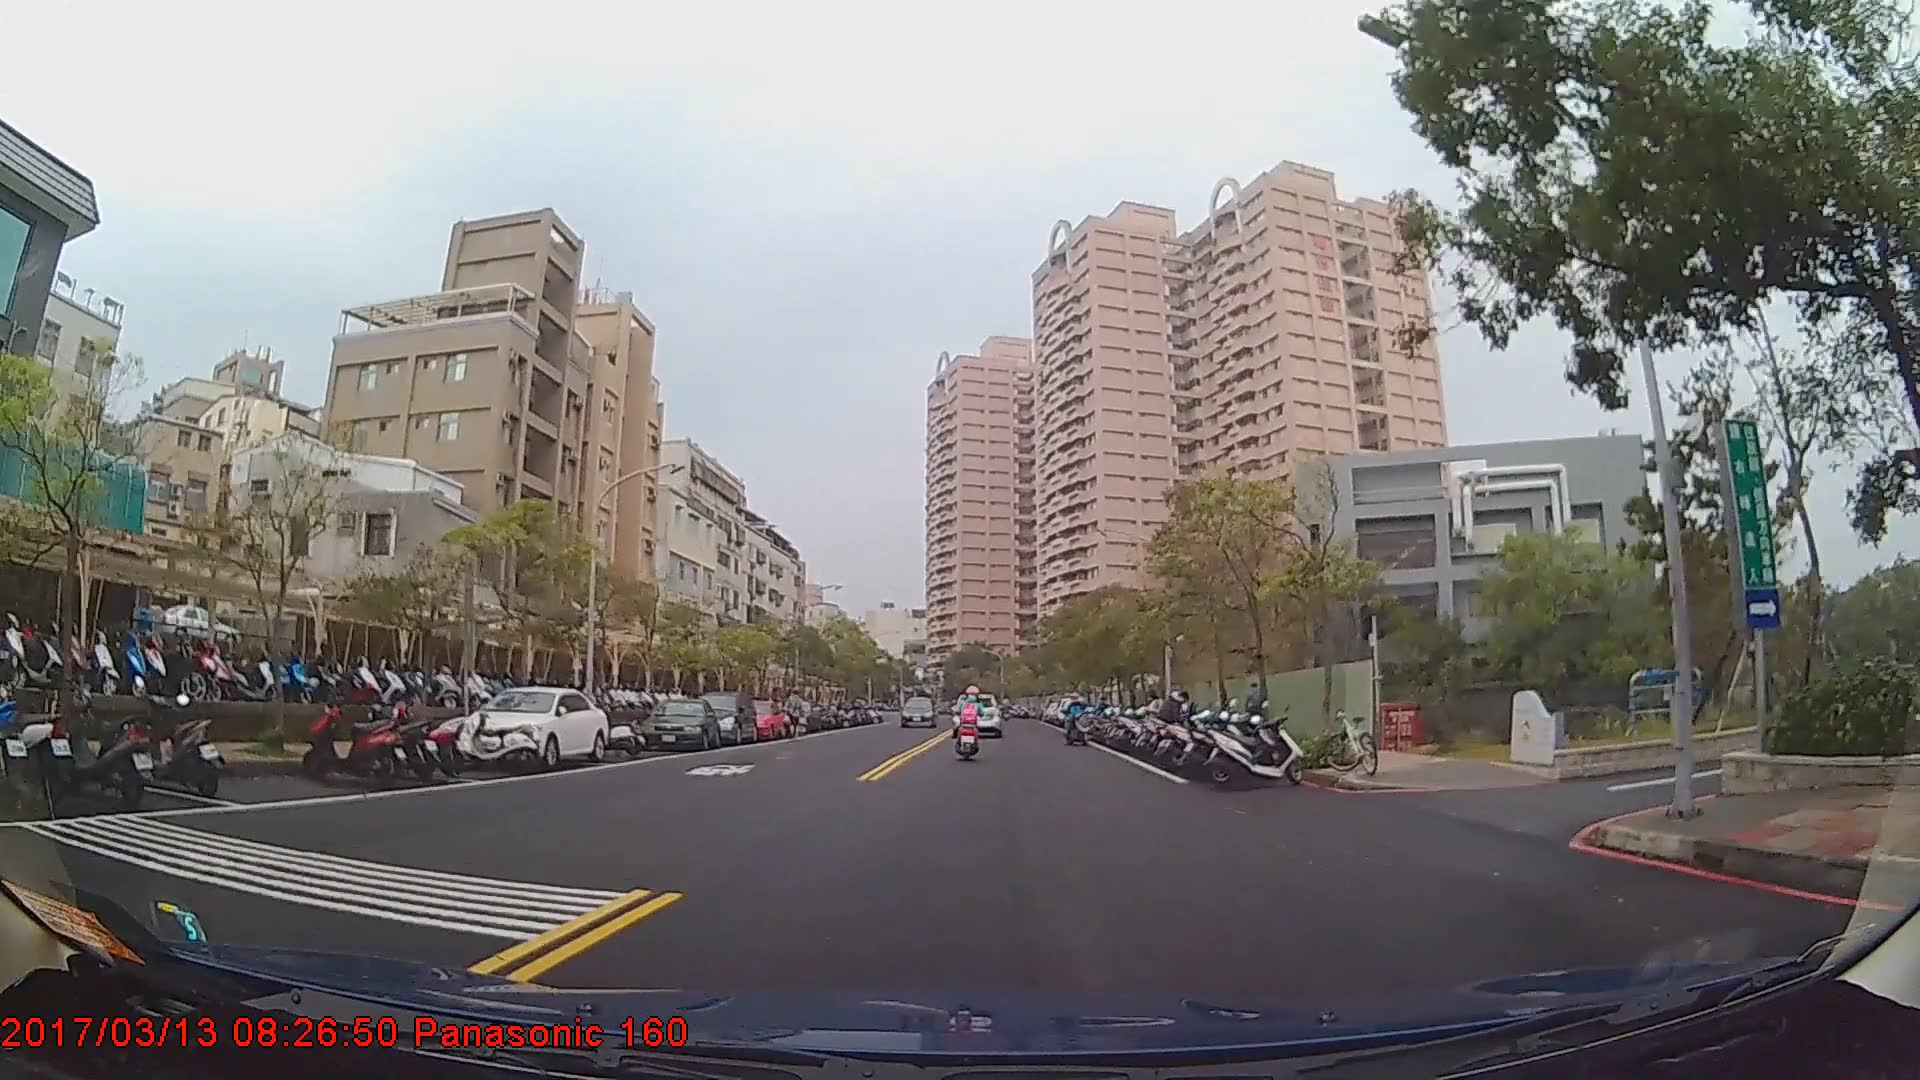pedestrian: (1159, 687, 1193, 751), (1244, 679, 1270, 734), (784, 689, 811, 743)
rider: (956, 685, 986, 757), (1065, 688, 1089, 742)
vehicle: (459, 684, 608, 768), (639, 697, 719, 752), (691, 689, 756, 743), (950, 686, 1002, 733), (734, 697, 786, 742), (900, 693, 933, 727)
